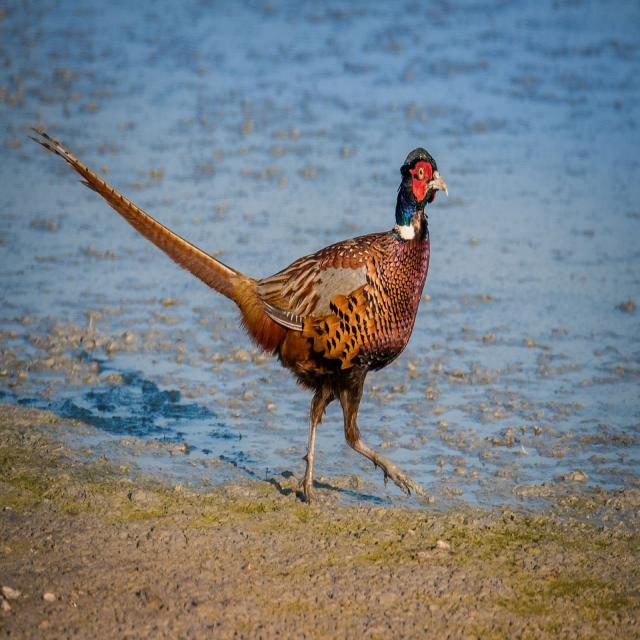pheasant: (32, 122, 449, 509)
